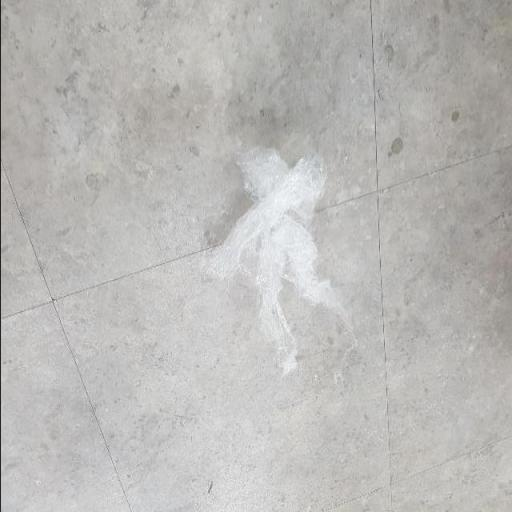plastic-bag: (202, 136, 358, 391)
